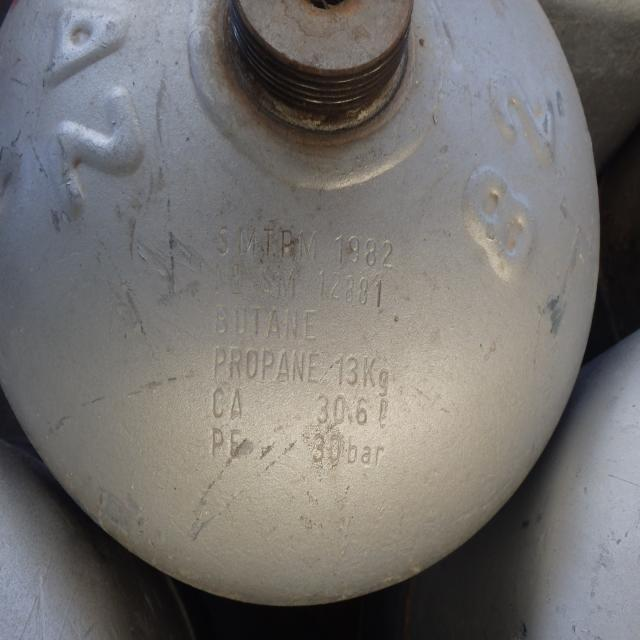ocr: (210, 214, 396, 488)
